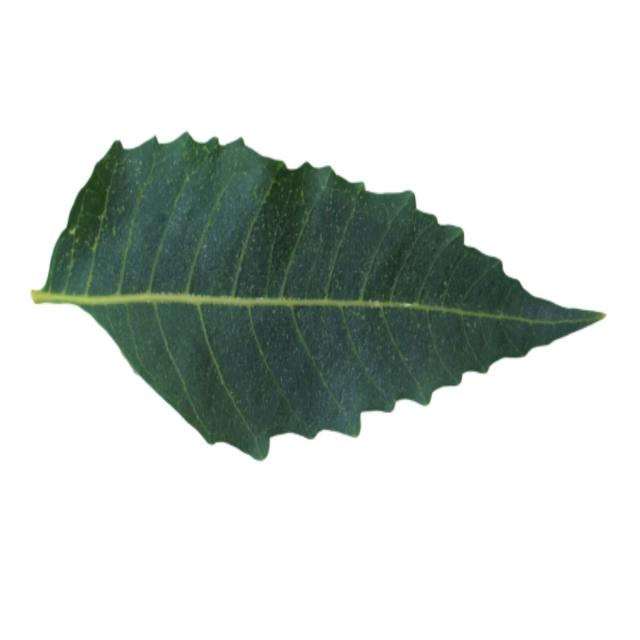Medicinal-Neem: (30, 120, 606, 456)
